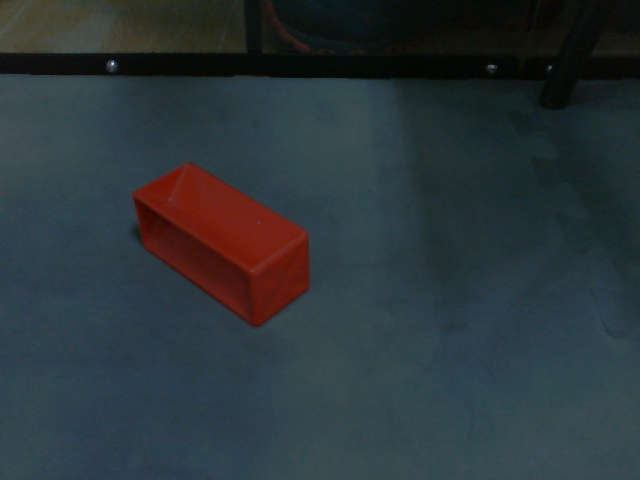RedSample: (128, 159, 312, 330)
